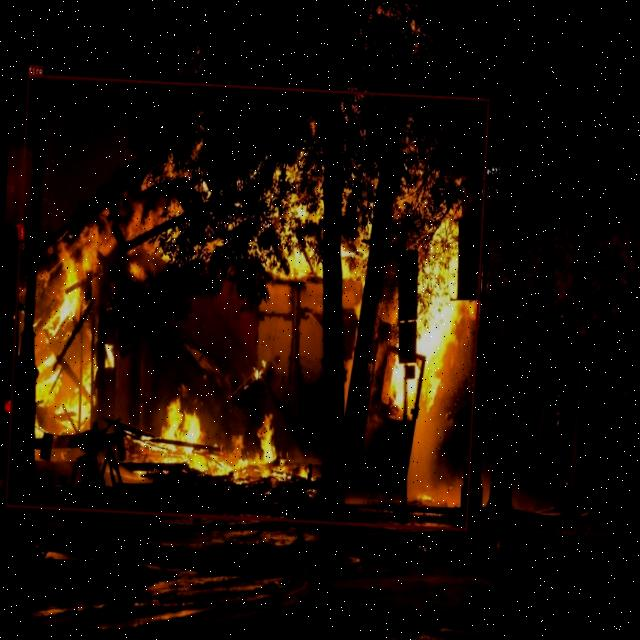fire: (6, 73, 490, 530)
